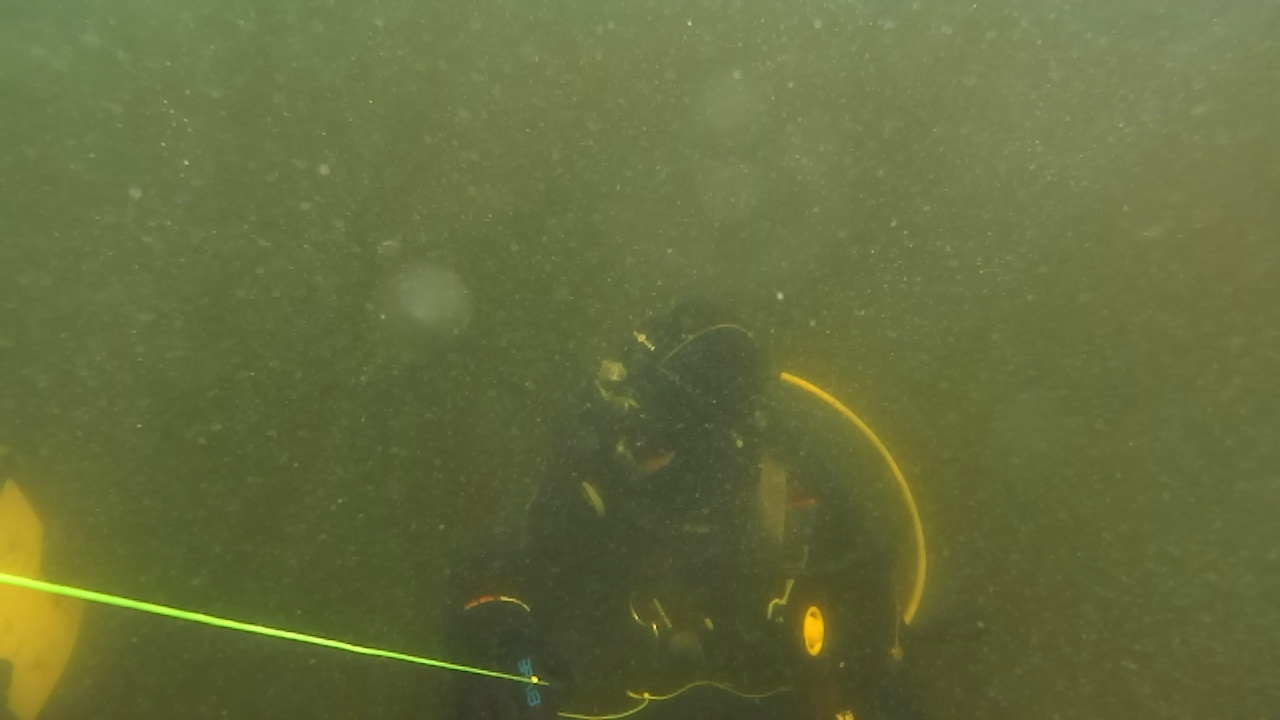Head: (534, 342, 706, 514)
